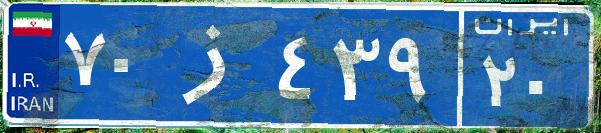0: (110, 28, 158, 105), (525, 38, 570, 115)
2: (475, 38, 525, 113)
3: (330, 28, 385, 110)
4: (273, 28, 330, 110)
7: (57, 26, 110, 107)
9: (385, 28, 445, 110)
ز: (158, 15, 273, 115)
